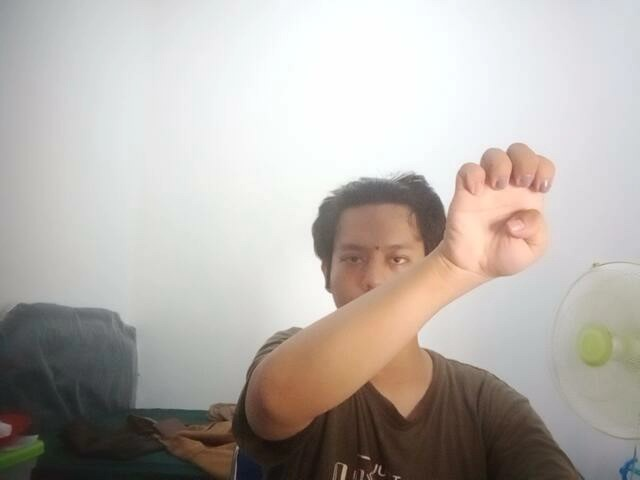E: (434, 132, 572, 289)
